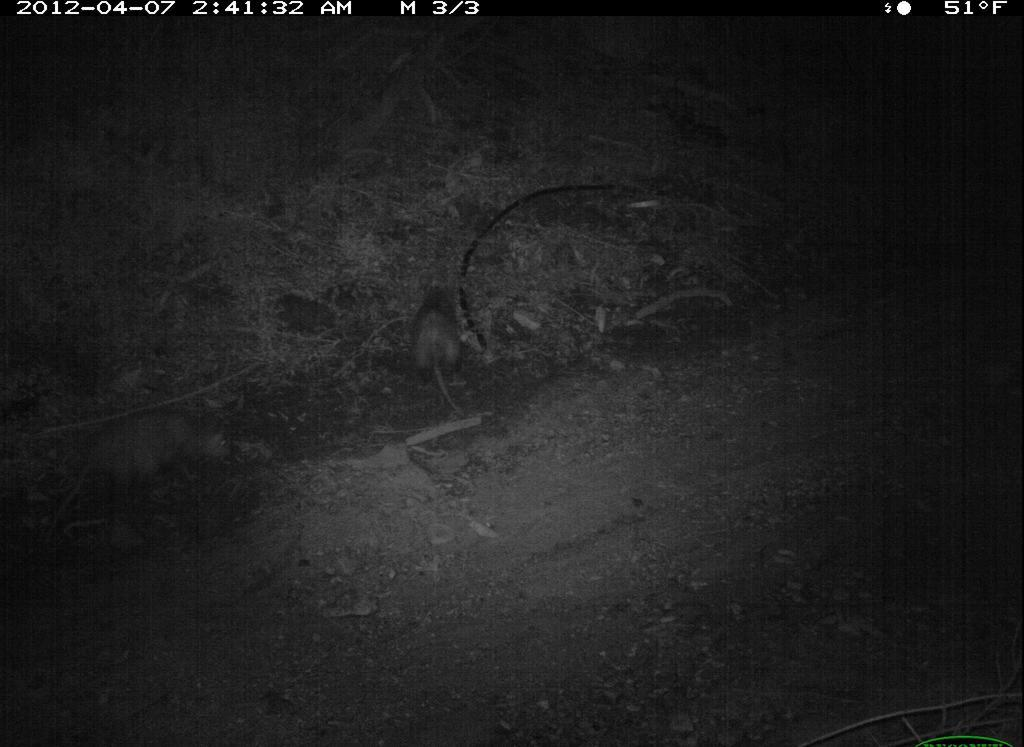opossum: (402, 278, 488, 433)
